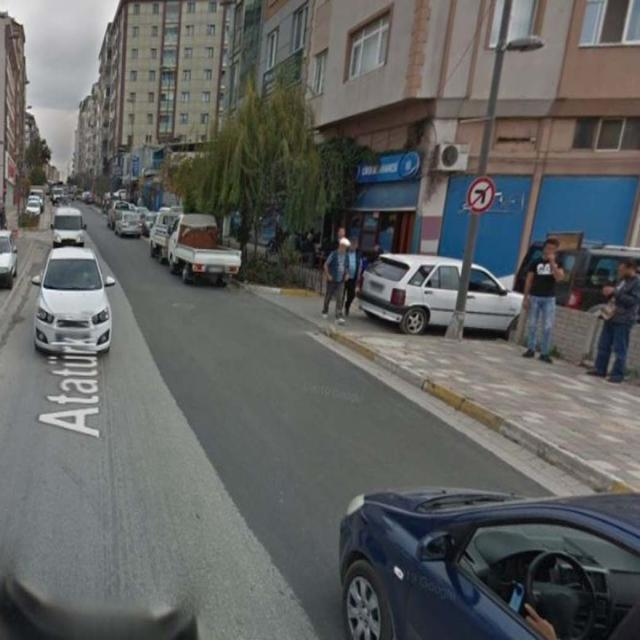soladonulmez: (467, 177, 496, 215)
